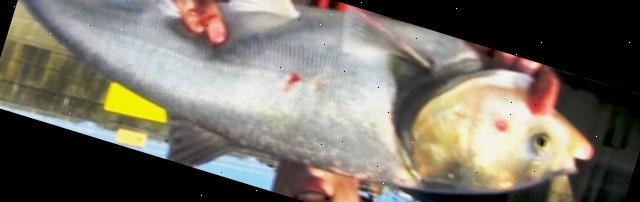Epizootic Ulcerative Syndrome -EUS-: (19, 0, 574, 192)
